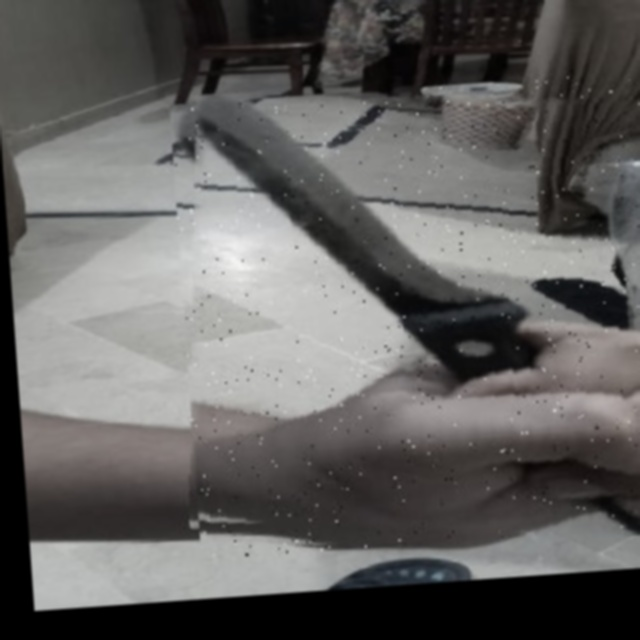Sharp-Object: (169, 71, 640, 558)
